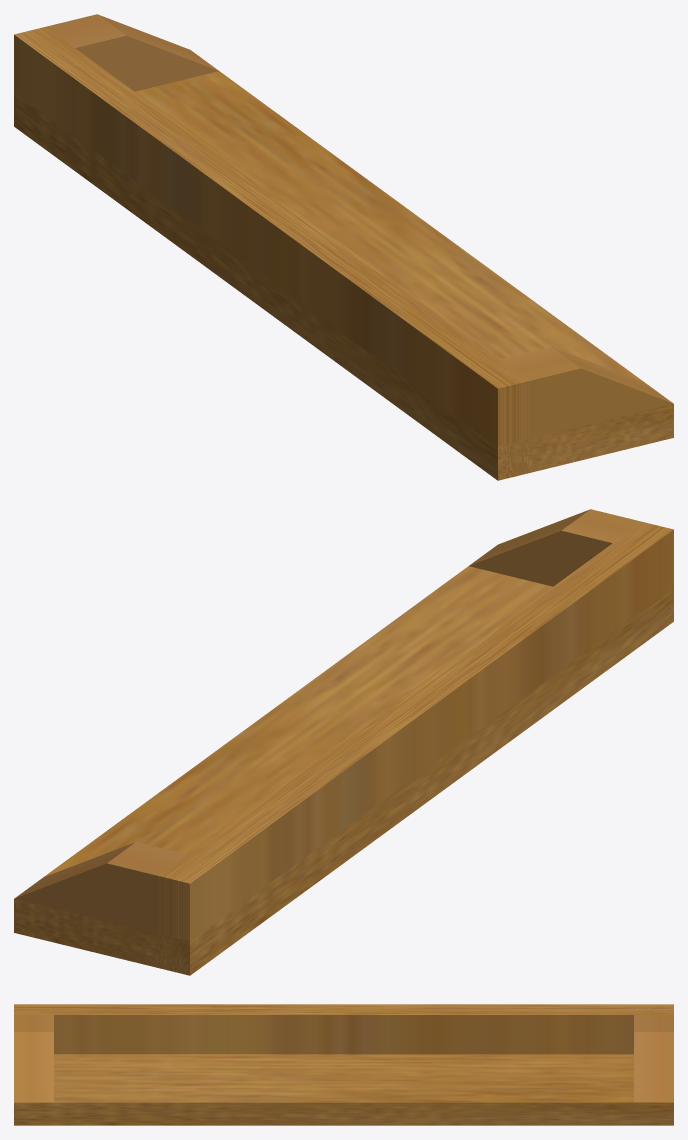
File: shelf.FBX
3 views of the same model, one above another, from view 1: azimuth 30°, elevation 25°; view 2: azimuth 150°, elevation 25°; view 3: azimuth 270°, elevation 25° (orthographic). The views are drawn at different scales.
Visible parts, largest first — view 1: Box001; view 2: Box001; view 3: Box001.
Boxes of the visible parts, bbox=[...] form: Box001: bbox=[14, 14, 673, 480]; Box001: bbox=[14, 509, 673, 975]; Box001: bbox=[14, 1004, 673, 1125].
Size of the model in its own units: 39.98 by 19.98 by 190.
Materials: 1 (1 with a texture image).
